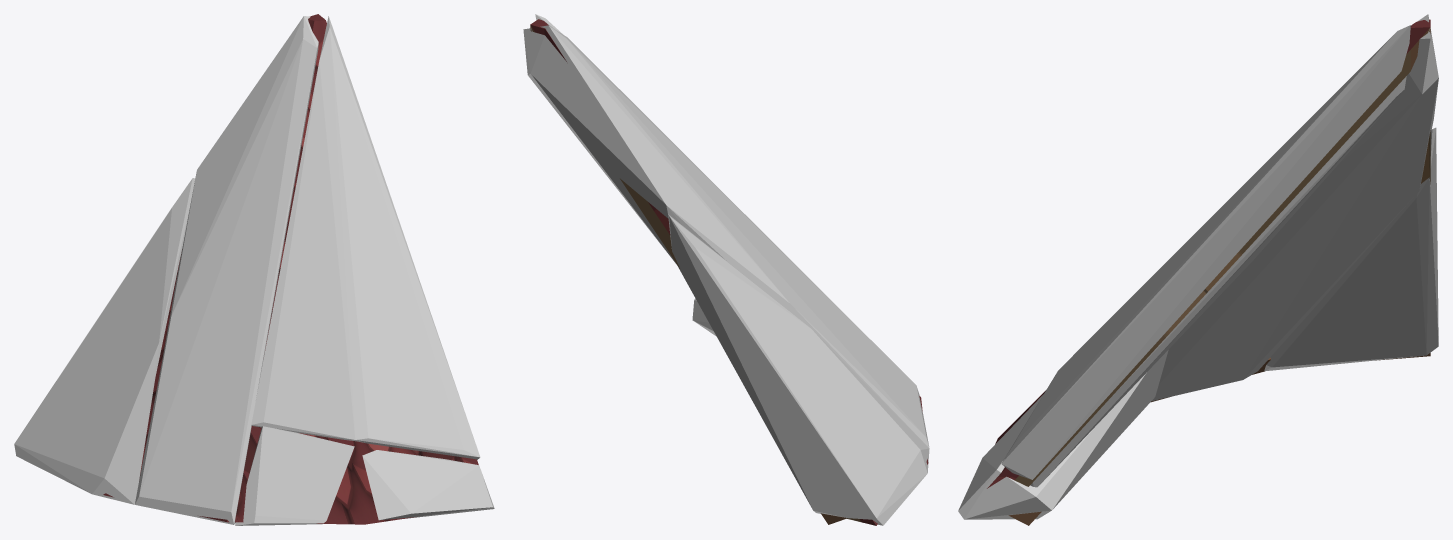
The model's file is SM_Bld_Roof_Straight_Corner_Round_01.fbx.
The picture shows the model from 3 angles, left to right: view 1: azimuth 30°, elevation 25°; view 2: azimuth 150°, elevation 25°; view 3: azimuth 270°, elevation 25°; orthographic projection. The views are drawn at different scales.
Visible parts, largest first — view 1: SM_Bld_Roof_Straight_Corner_Round_01_ConvexHulls, SM_Bld_Roof_Straight_Corner_Round_01; view 2: SM_Bld_Roof_Straight_Corner_Round_01_ConvexHulls, SM_Bld_Roof_Straight_Corner_Round_01; view 3: SM_Bld_Roof_Straight_Corner_Round_01_ConvexHulls, SM_Bld_Roof_Straight_Corner_Round_01.
Boxes of the visible parts, left/top/right/bottom form: SM_Bld_Roof_Straight_Corner_Round_01_ConvexHulls: left=14, top=16, right=494, bottom=525; SM_Bld_Roof_Straight_Corner_Round_01: left=103, top=14, right=478, bottom=524; SM_Bld_Roof_Straight_Corner_Round_01_ConvexHulls: left=523, top=14, right=929, bottom=525; SM_Bld_Roof_Straight_Corner_Round_01: left=530, top=19, right=928, bottom=525; SM_Bld_Roof_Straight_Corner_Round_01_ConvexHulls: left=958, top=14, right=1438, bottom=519; SM_Bld_Roof_Straight_Corner_Round_01: left=987, top=19, right=1430, bottom=525.
Bounding box in the file's own units: 269 × 269 × 315.
4 materials, 3 textured.
